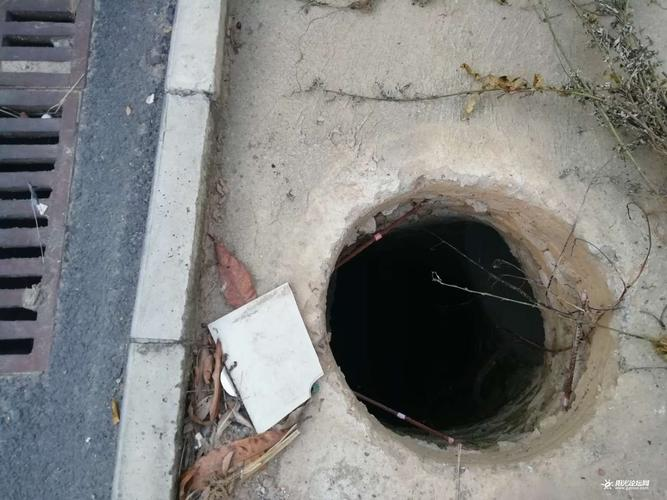lose: (306, 169, 625, 473)
